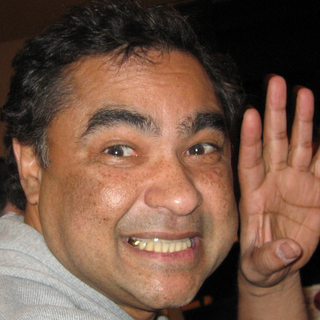eye: (96, 141, 146, 164), (178, 140, 224, 161)
